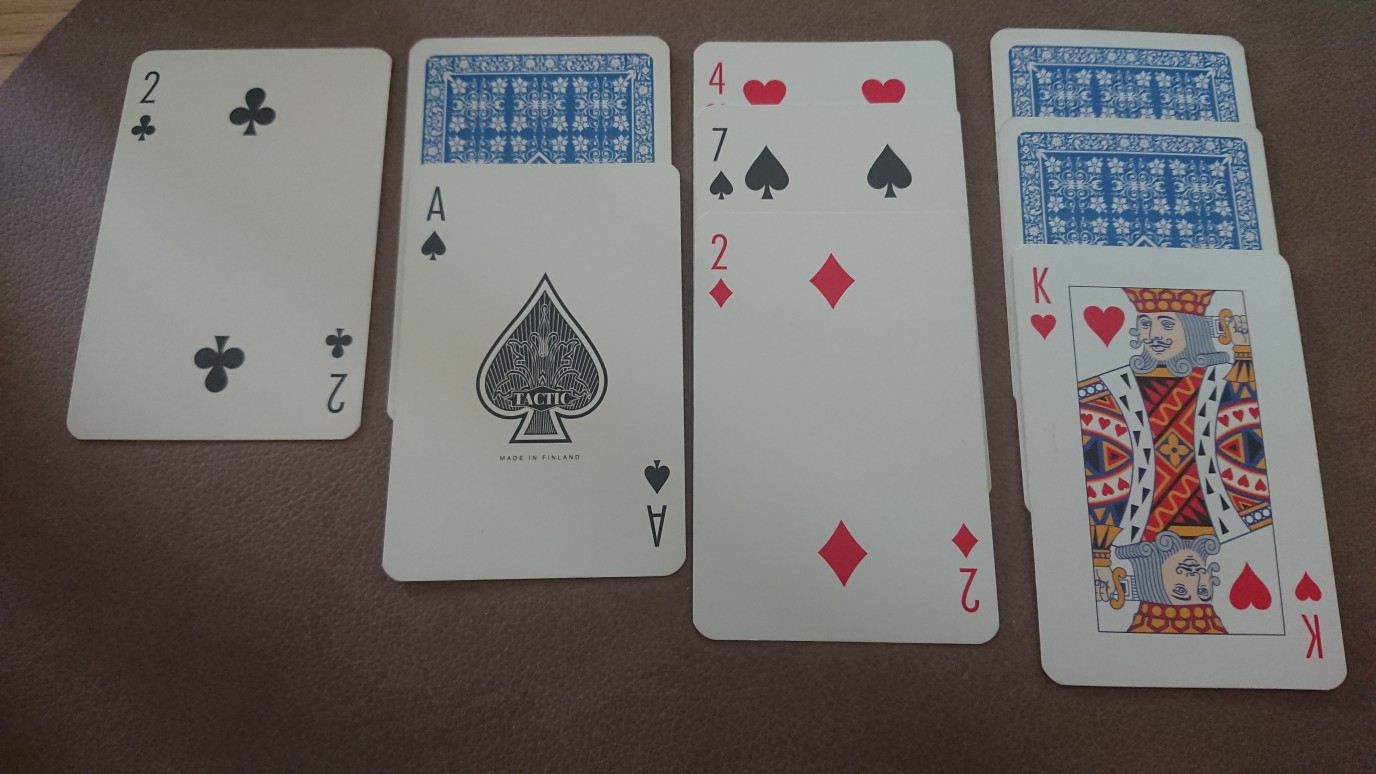2C: (128, 68, 165, 147)
2D: (703, 229, 738, 312)
7S: (705, 122, 740, 205)
AS: (416, 182, 451, 266)
BACK: (997, 116, 1279, 249), (404, 34, 674, 164), (986, 26, 1257, 118)
KH: (1025, 263, 1061, 345)
